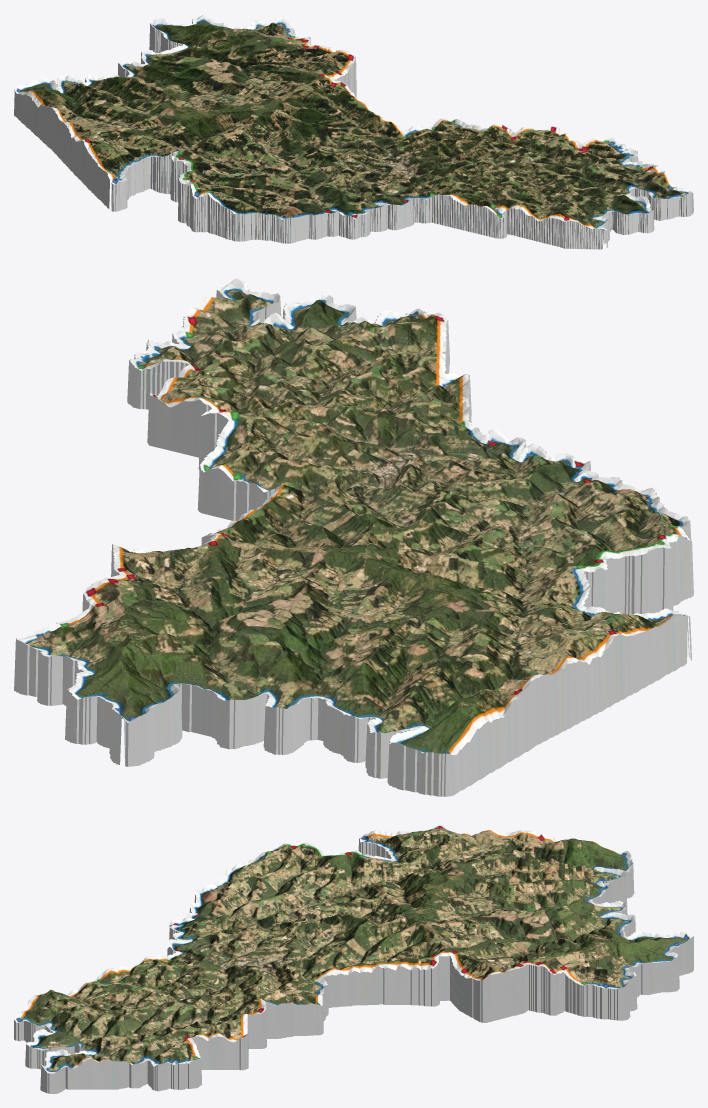
3 renders of one model, top to bottom at view 1: azimuth 30°, elevation 25°; view 2: azimuth 150°, elevation 25°; view 3: azimuth 270°, elevation 25°, orthographic. The views are drawn at different scales.
Bounding box in the file's own units: 0.9999 × 0.096 × 1.26.
1 material, 1 textured.
